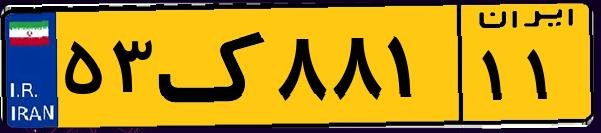1: (385, 28, 445, 110), (475, 38, 525, 113), (525, 38, 570, 115)
3: (110, 28, 158, 98)
5: (57, 26, 110, 100)
8: (270, 28, 330, 110), (330, 28, 385, 110)
ک: (158, 12, 270, 120)
